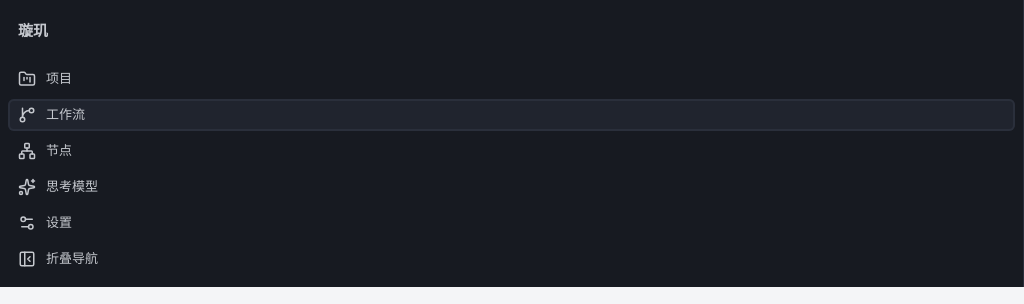
Test: WorkspaceNav › collapses to an icon rail and persists the preference
The image size is (1024, 304).
Click the button "折叠导航" at point(72, 258), box [8,242,1015,274]
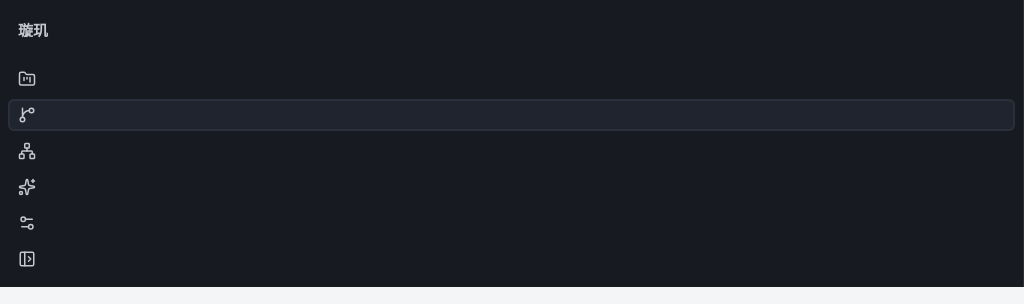
Check: the button named "展开导航" is shown, box [8,242,1015,274]
